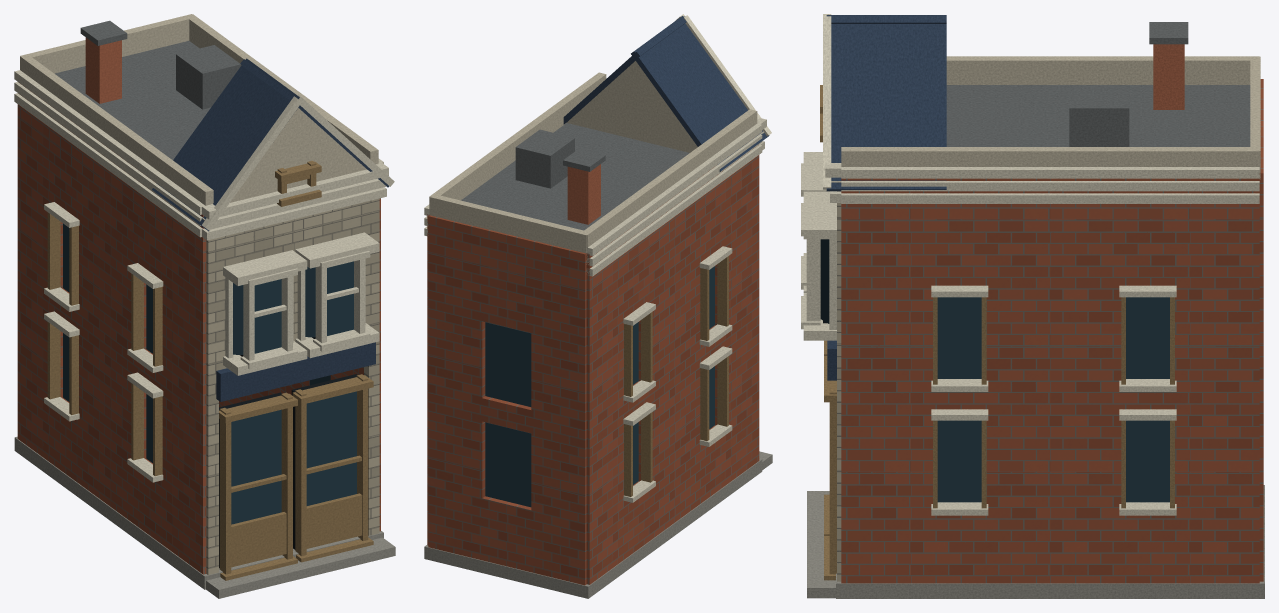
File: BUSS7_lod2.glb
3 renders of one model, left to right at view 1: azimuth 30°, elevation 25°; view 2: azimuth 150°, elevation 25°; view 3: azimuth 270°, elevation 25°, orthographic. The views are drawn at different scales.
Visible parts, largest first — view 1: BUSS7_LOD2; view 2: BUSS7_LOD2; view 3: BUSS7_LOD2.
Part boxes in pixels (<box>): BUSS7_LOD2: <box>14,14,395,598</box>; BUSS7_LOD2: <box>424,14,772,598</box>; BUSS7_LOD2: <box>801,14,1264,598</box>.
Size of the model in its own units: 3.71 by 8.46 by 6.65.
Materials: 11 (9 with a texture image).
